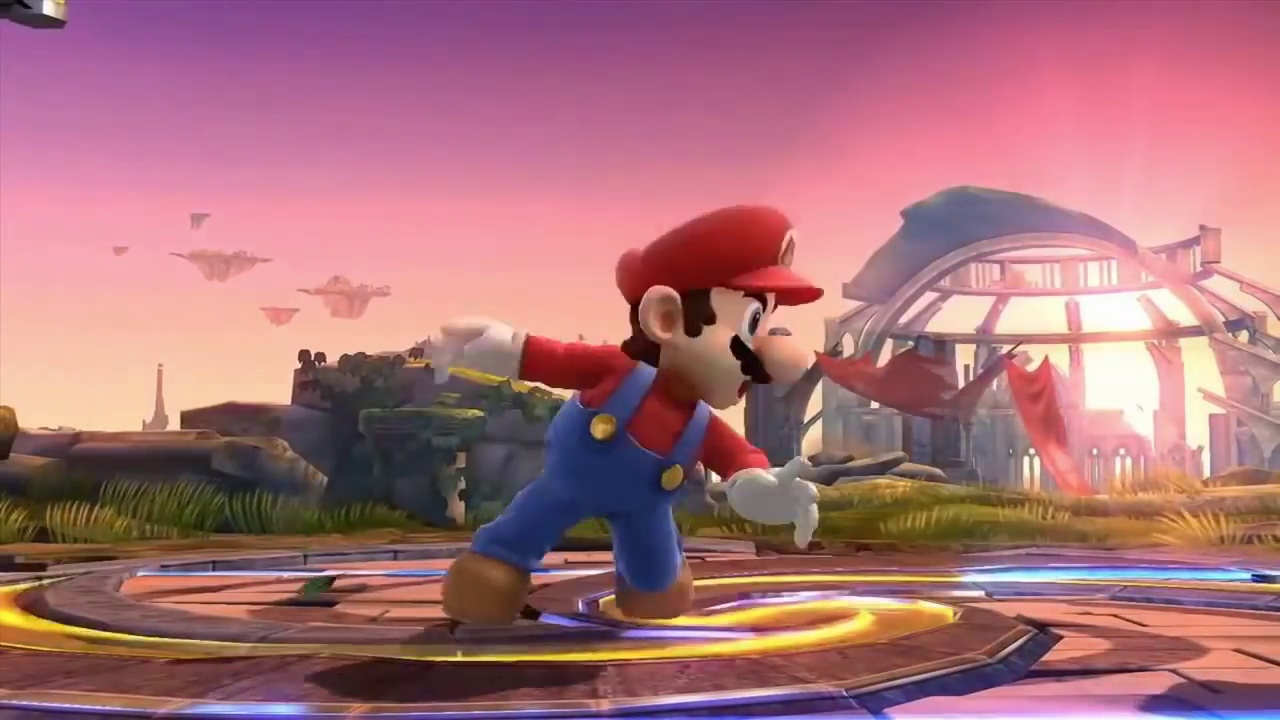Mario: (424, 203, 830, 625)
